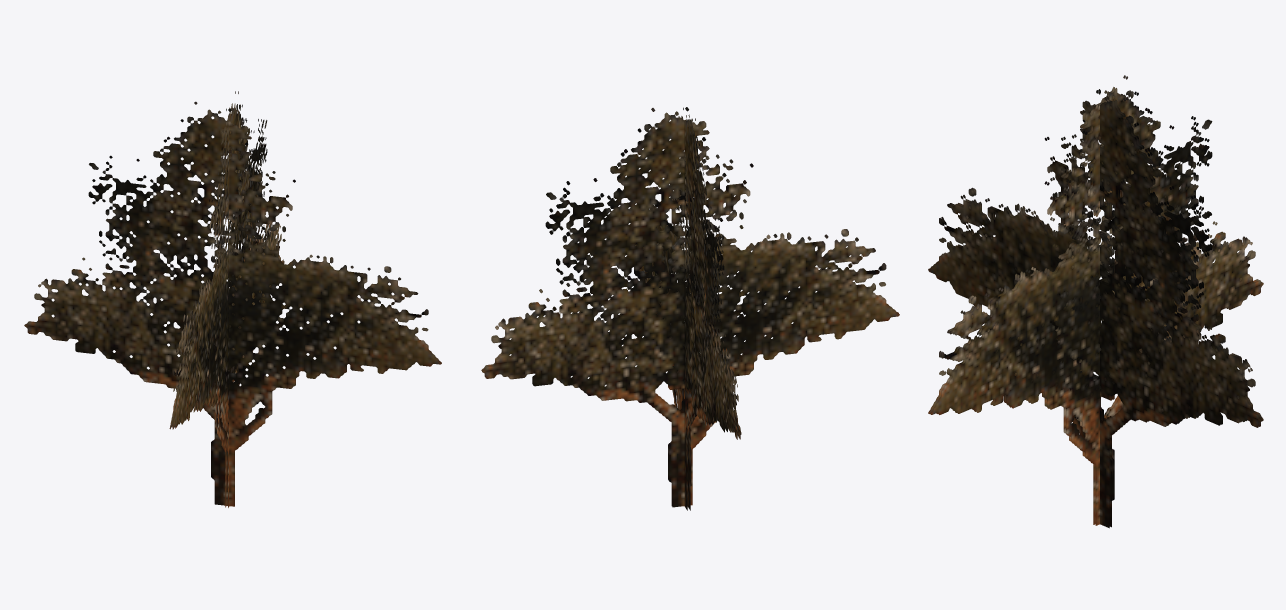
Rendered from tree046.fbx.
3 views of the same model, side by side, from view 1: azimuth 30°, elevation 25°; view 2: azimuth 150°, elevation 25°; view 3: azimuth 270°, elevation 25° (orthographic). The views are drawn at different scales.
Parts seen in each view (by area): view 1: tree046; view 2: tree046; view 3: tree046.
Boxes of the visible parts, left/top/right/bottom form: tree046: left=24, top=91, right=441, bottom=507; tree046: left=481, top=107, right=899, bottom=510; tree046: left=928, top=75, right=1263, bottom=528.
Bounding box in the file's own units: 278 × 399 × 278.
1 material, 1 textured.
